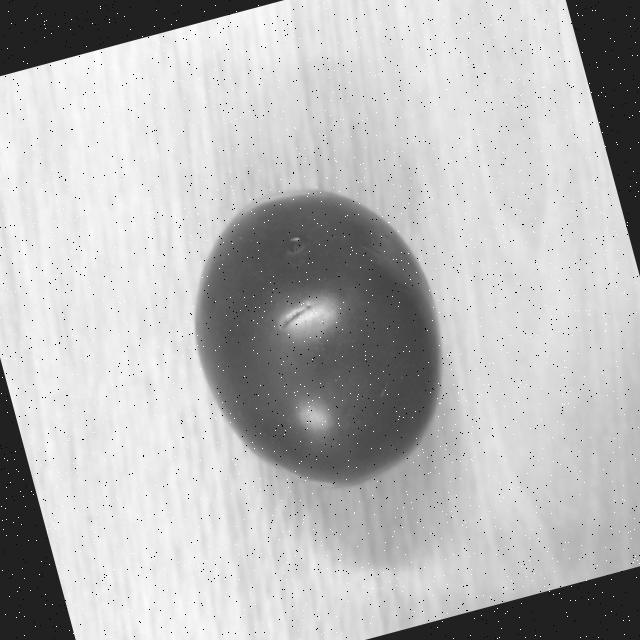Ripe: (158, 155, 478, 522)
